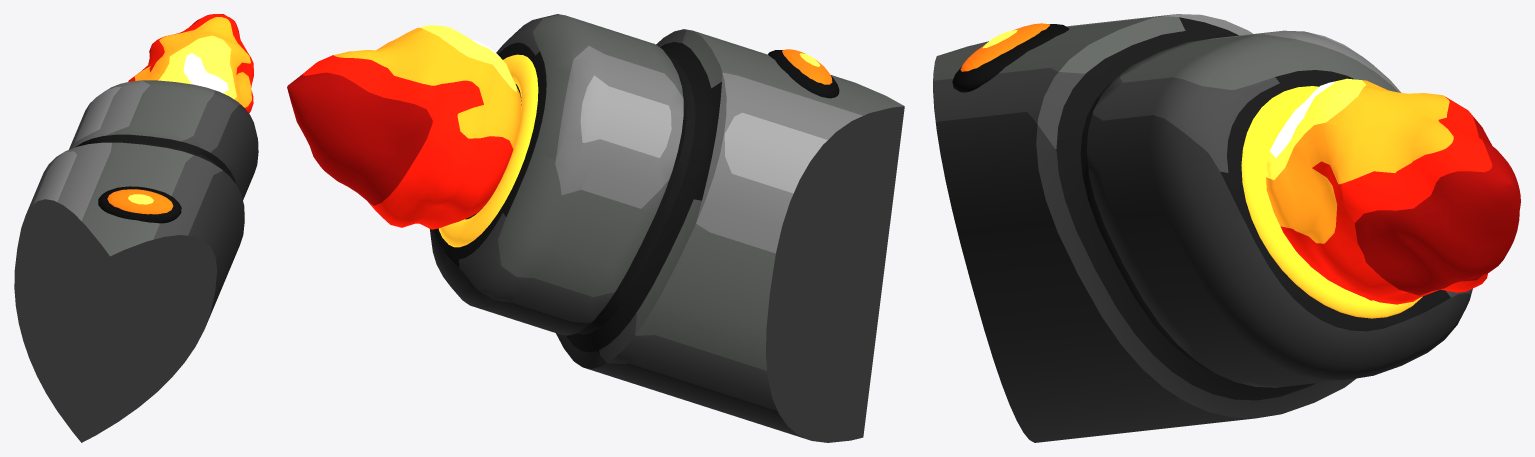
The model's file is mortar_muzzle_243.glb.
The picture shows the model from 3 angles, left to right: view 1: azimuth 30°, elevation 25°; view 2: azimuth 150°, elevation 25°; view 3: azimuth 270°, elevation 25°; orthographic projection. The views are drawn at different scales.
Parts seen in each view (by area): view 1: mortar_muzzle_243; view 2: mortar_muzzle_243; view 3: mortar_muzzle_243.
Boxes of the visible parts, <box> form: mortar_muzzle_243: <box>14,14,258,442</box>; mortar_muzzle_243: <box>287,14,904,442</box>; mortar_muzzle_243: <box>933,14,1520,442</box>.
Size of the model in its own units: 17.02 by 17.51 by 17.4.
